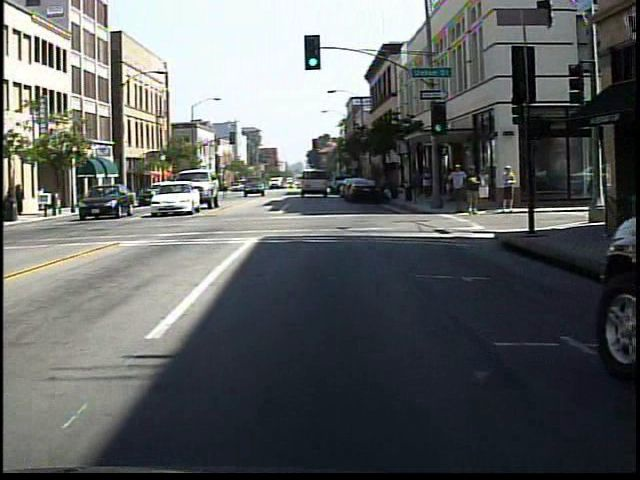person: (497, 161, 518, 216), (446, 161, 467, 215), (463, 165, 484, 217), (477, 164, 494, 215), (417, 163, 435, 206), (217, 174, 235, 202)
